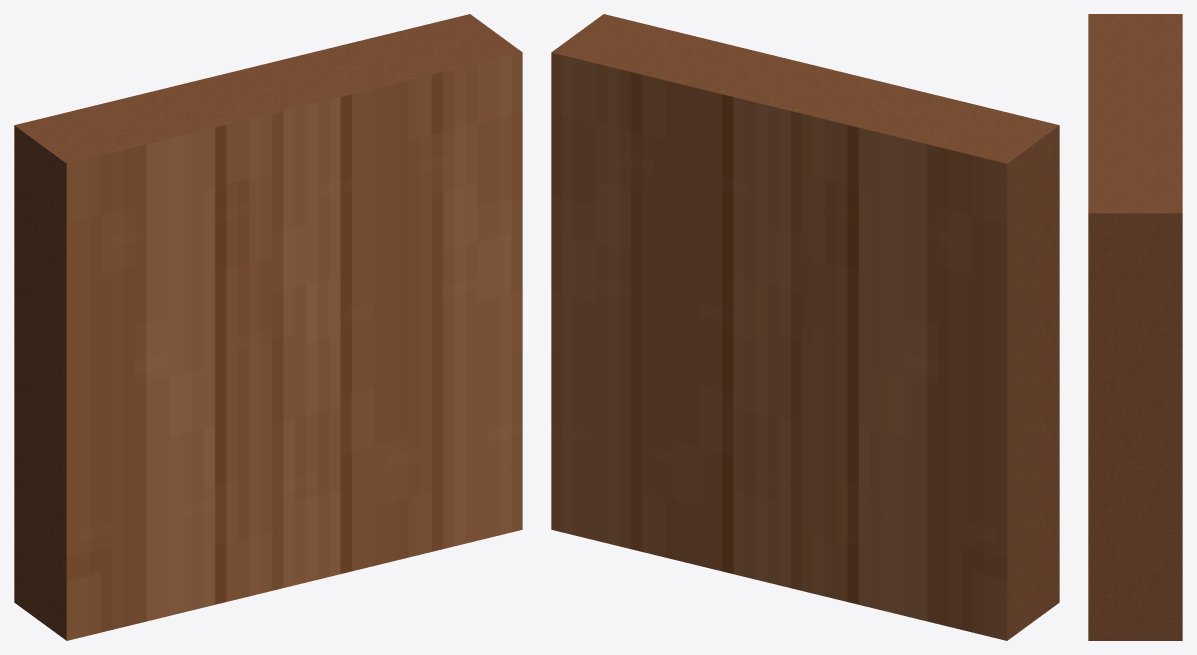
The model's file is Wall_Wood_Vertical_Rough_1x1.fbx.
3 renders of one model, left to right at view 1: azimuth 30°, elevation 25°; view 2: azimuth 150°, elevation 25°; view 3: azimuth 270°, elevation 25°, orthographic. The views are drawn at different scales.
Visible parts, largest first — view 1: Wall_Wood_Vertical_Rough_1x1; view 2: Wall_Wood_Vertical_Rough_1x1; view 3: Wall_Wood_Vertical_Rough_1x1.
Part boxes in pixels (x1,y1,x2,y2): Wall_Wood_Vertical_Rough_1x1: (14,14,522,640); Wall_Wood_Vertical_Rough_1x1: (551,14,1059,640); Wall_Wood_Vertical_Rough_1x1: (1088,14,1182,640).
Bounding box in the file's own units: 100 × 100 × 20.
2 materials, 2 textured.
